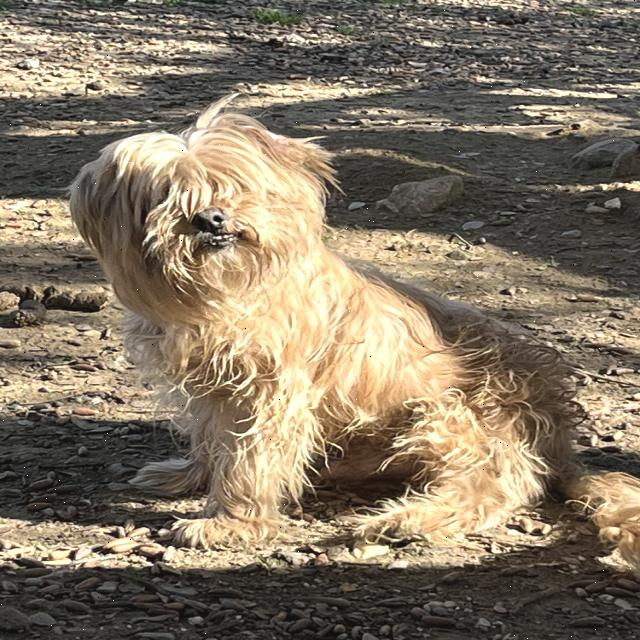shih_tzu_dog: (69, 99, 358, 345)
